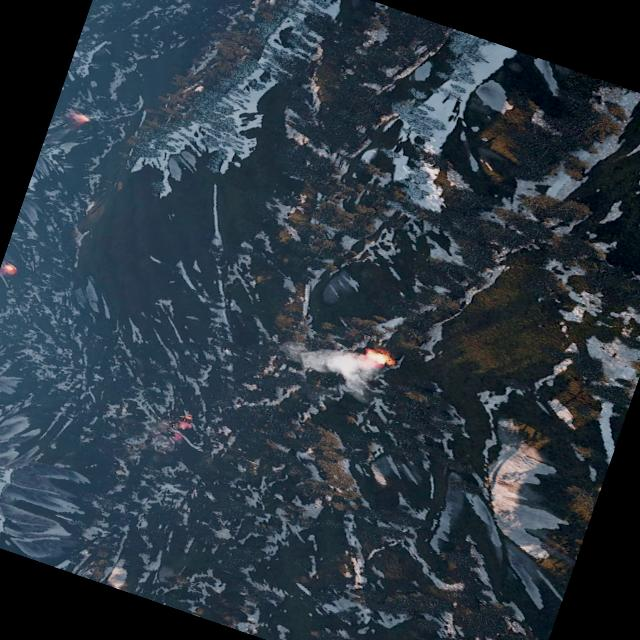fire: (168, 408, 198, 442), (363, 345, 392, 366), (75, 112, 92, 124), (2, 260, 17, 272)
smoke: (273, 327, 382, 402)
